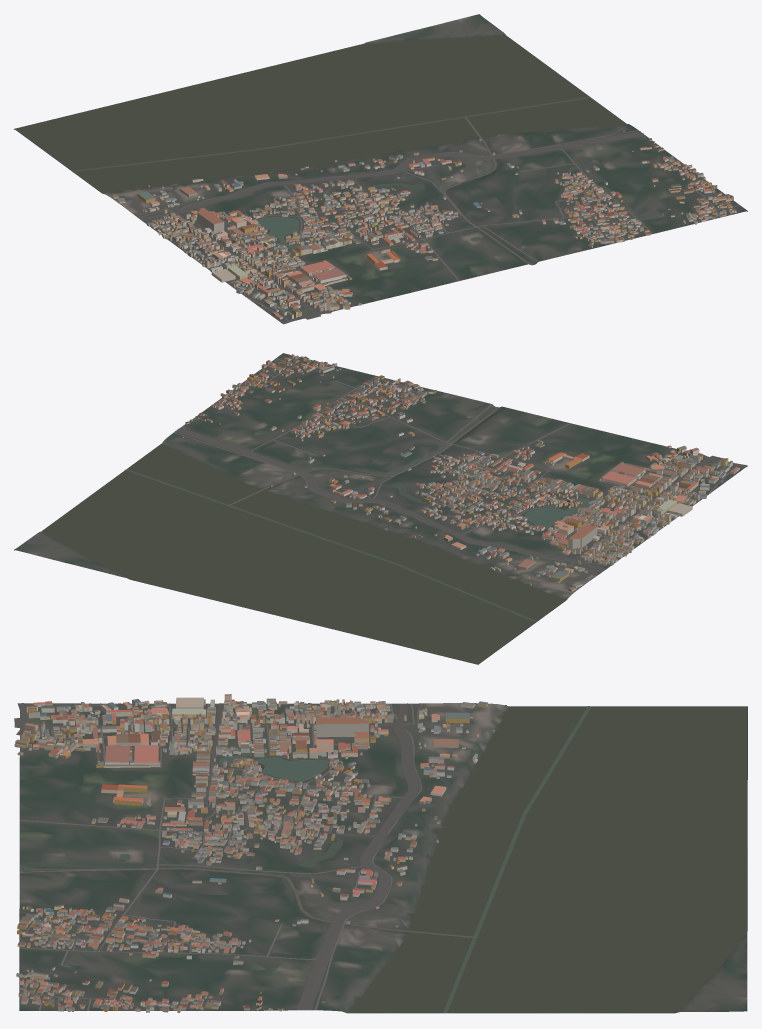
3 views of the same model, one above another, from view 1: azimuth 30°, elevation 25°; view 2: azimuth 150°, elevation 25°; view 3: azimuth 270°, elevation 25° (orthographic). The views are drawn at different scales.
Visible parts, largest first — view 1: water, ground, buildings, roads; view 2: water, ground, buildings, roads; view 3: water, ground, buildings, roads.
Boxes of the visible parts, x1,y1,x2,y2 form: water: (15,35,625,264); ground: (14,14,747,322); buildings: (112,129,736,319); roads: (134,130,740,324); water: (41,407,590,664); ground: (14,353,747,664); buildings: (181,354,739,591); roads: (173,358,747,583); water: (19,705,747,1013); ground: (19,703,747,1013); buildings: (14,694,494,1012); roads: (14,703,480,1010).
Size of the model in its own units: 1418 by 36.47 by 1413.
